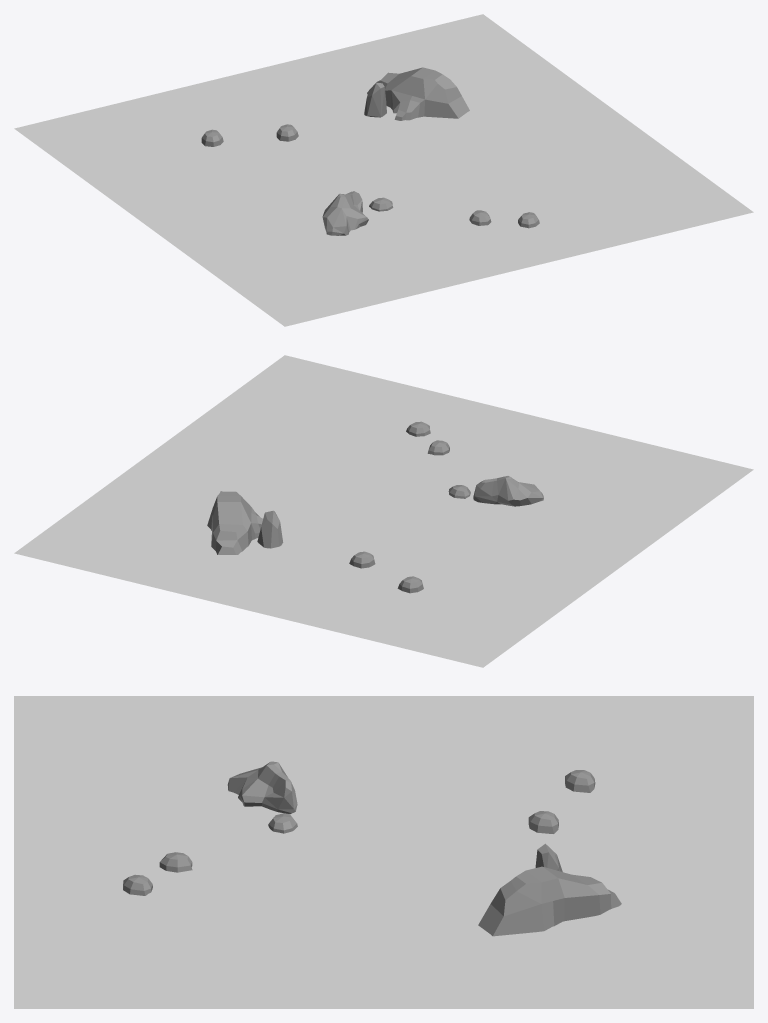
The model's file is Tile0.fbx.
3 views of the same model, one above another, from view 1: azimuth 30°, elevation 25°; view 2: azimuth 150°, elevation 25°; view 3: azimuth 270°, elevation 25° (orthographic). The views are drawn at different scales.
Visible parts, largest first — view 1: Tile0; view 2: Tile0; view 3: Tile0.
Part boxes in pixels (left/top/right/bottom): Tile0: left=14, top=14, right=753, bottom=326; Tile0: left=14, top=355, right=753, bottom=667; Tile0: left=14, top=696, right=753, bottom=1008.
Size of the model in its own units: 5000 by 369 by 5000.
